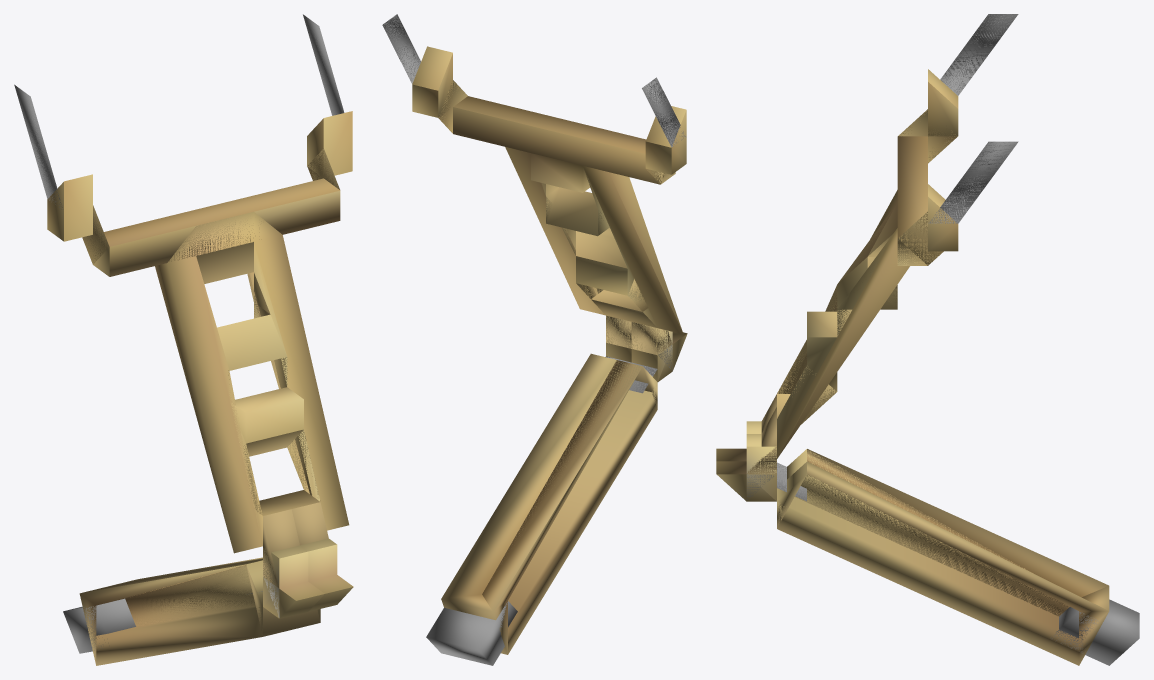
File: inserter.1.glb
3 views of the same model, side by side, from view 1: azimuth 30°, elevation 25°; view 2: azimuth 150°, elevation 25°; view 3: azimuth 270°, elevation 25° (orthographic). The views are drawn at different scales.
Parts seen in each view (by area): view 1: modelo; view 2: modelo; view 3: modelo.
Part boxes in pixels (x1,y1,x2,y2): modelo: (14, 14, 353, 665); modelo: (382, 14, 687, 665); modelo: (716, 14, 1139, 665).
Size of the model in its own units: 0.01 by 0.021 by 0.014.
